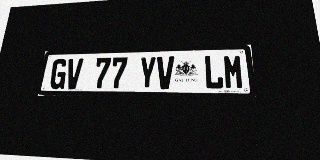7: (109, 57, 128, 89), (92, 58, 111, 89)
G: (49, 59, 68, 89)
L: (204, 55, 224, 89)
M: (223, 54, 245, 89)
V: (64, 58, 84, 89), (156, 56, 174, 89)
Y: (138, 56, 156, 89)
